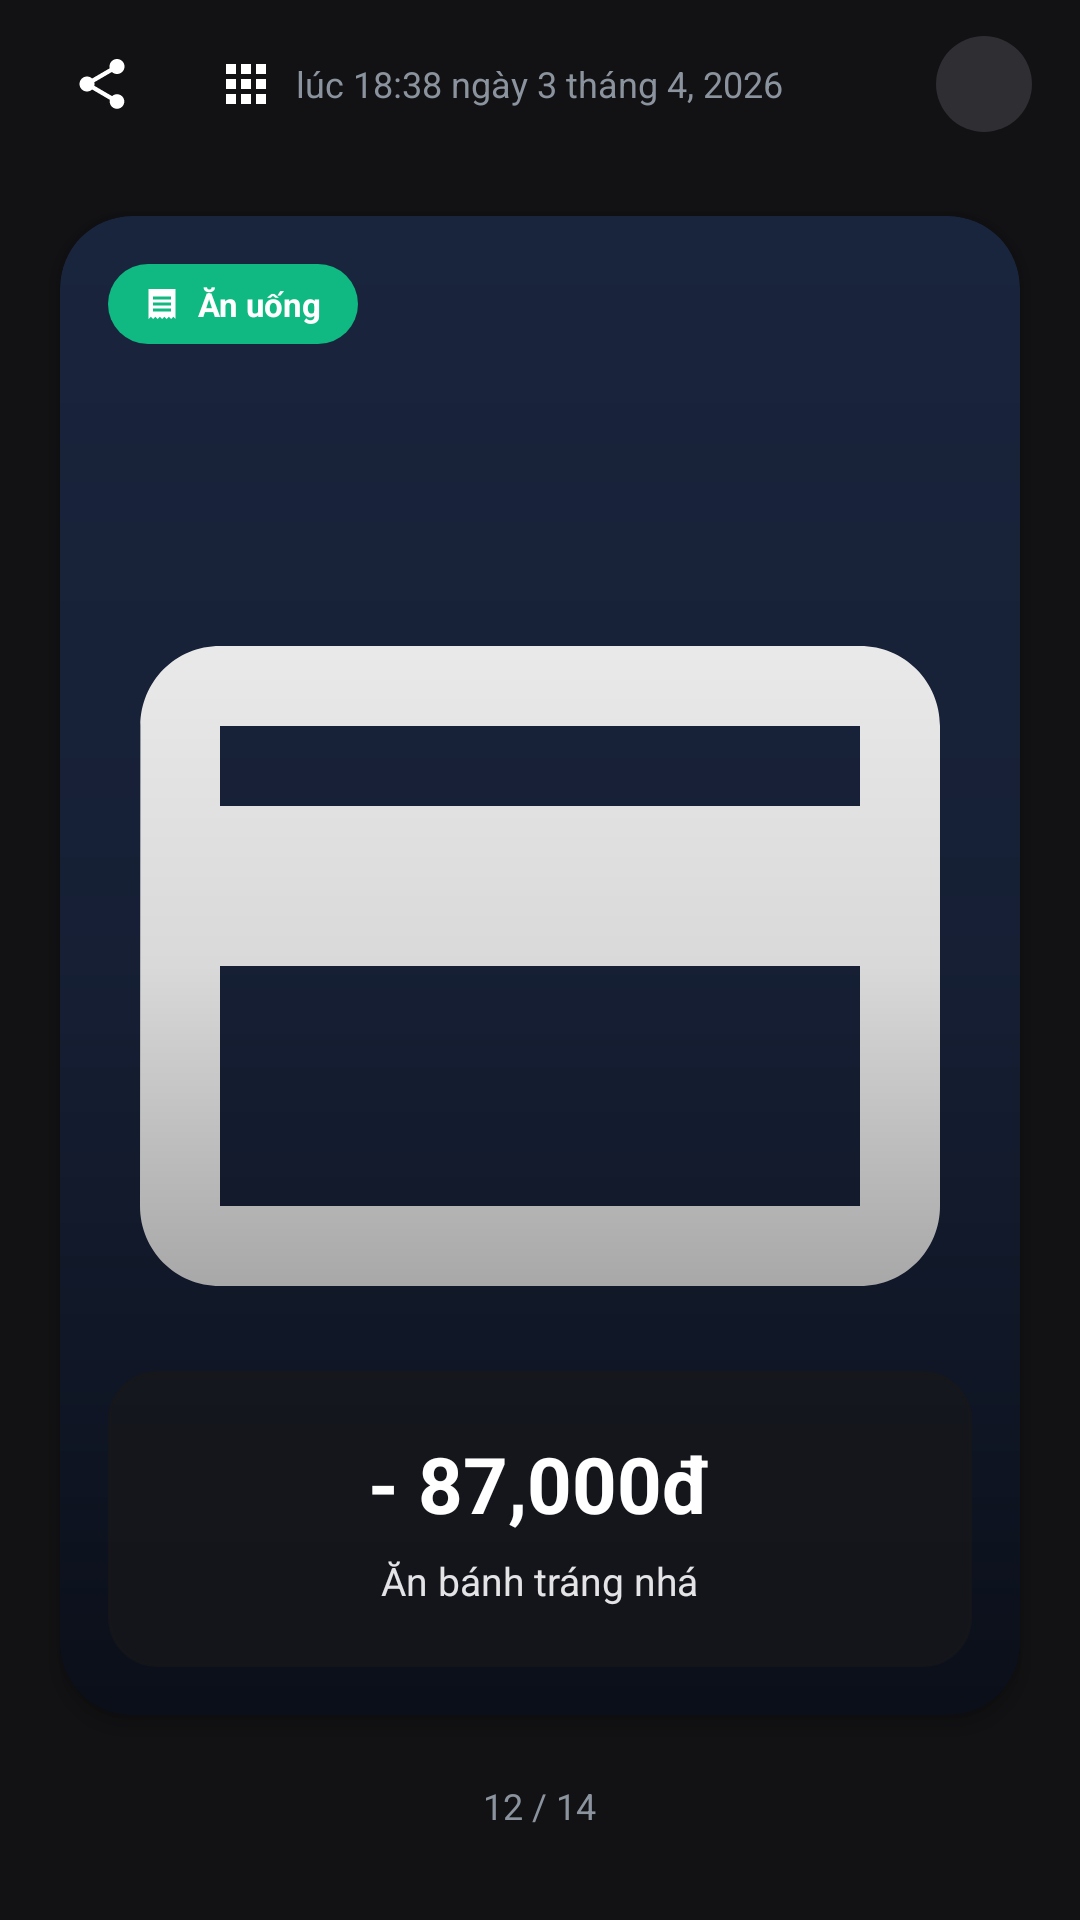

Icon bounding boxes for this 1080 × 1920 phone screenshot, format (x1, y1, x2, y2):
categories: (226, 64, 300, 104)
share: (79, 59, 125, 109)
